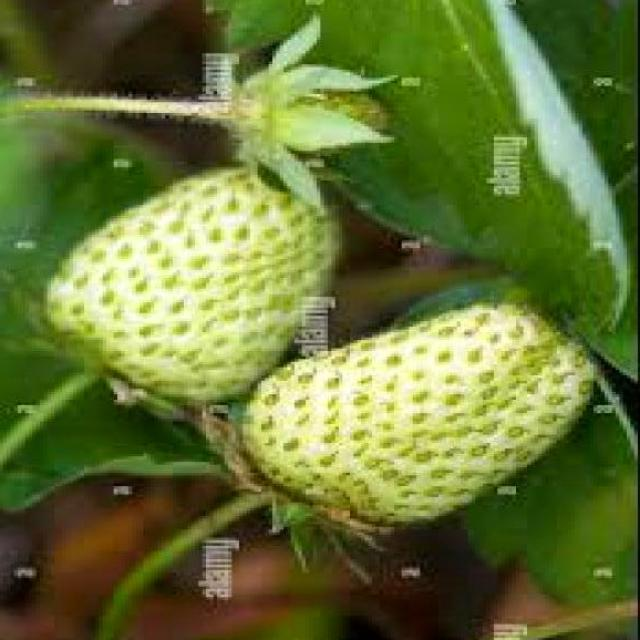Healthy Fruit: (231, 286, 599, 528), (42, 160, 341, 405)
